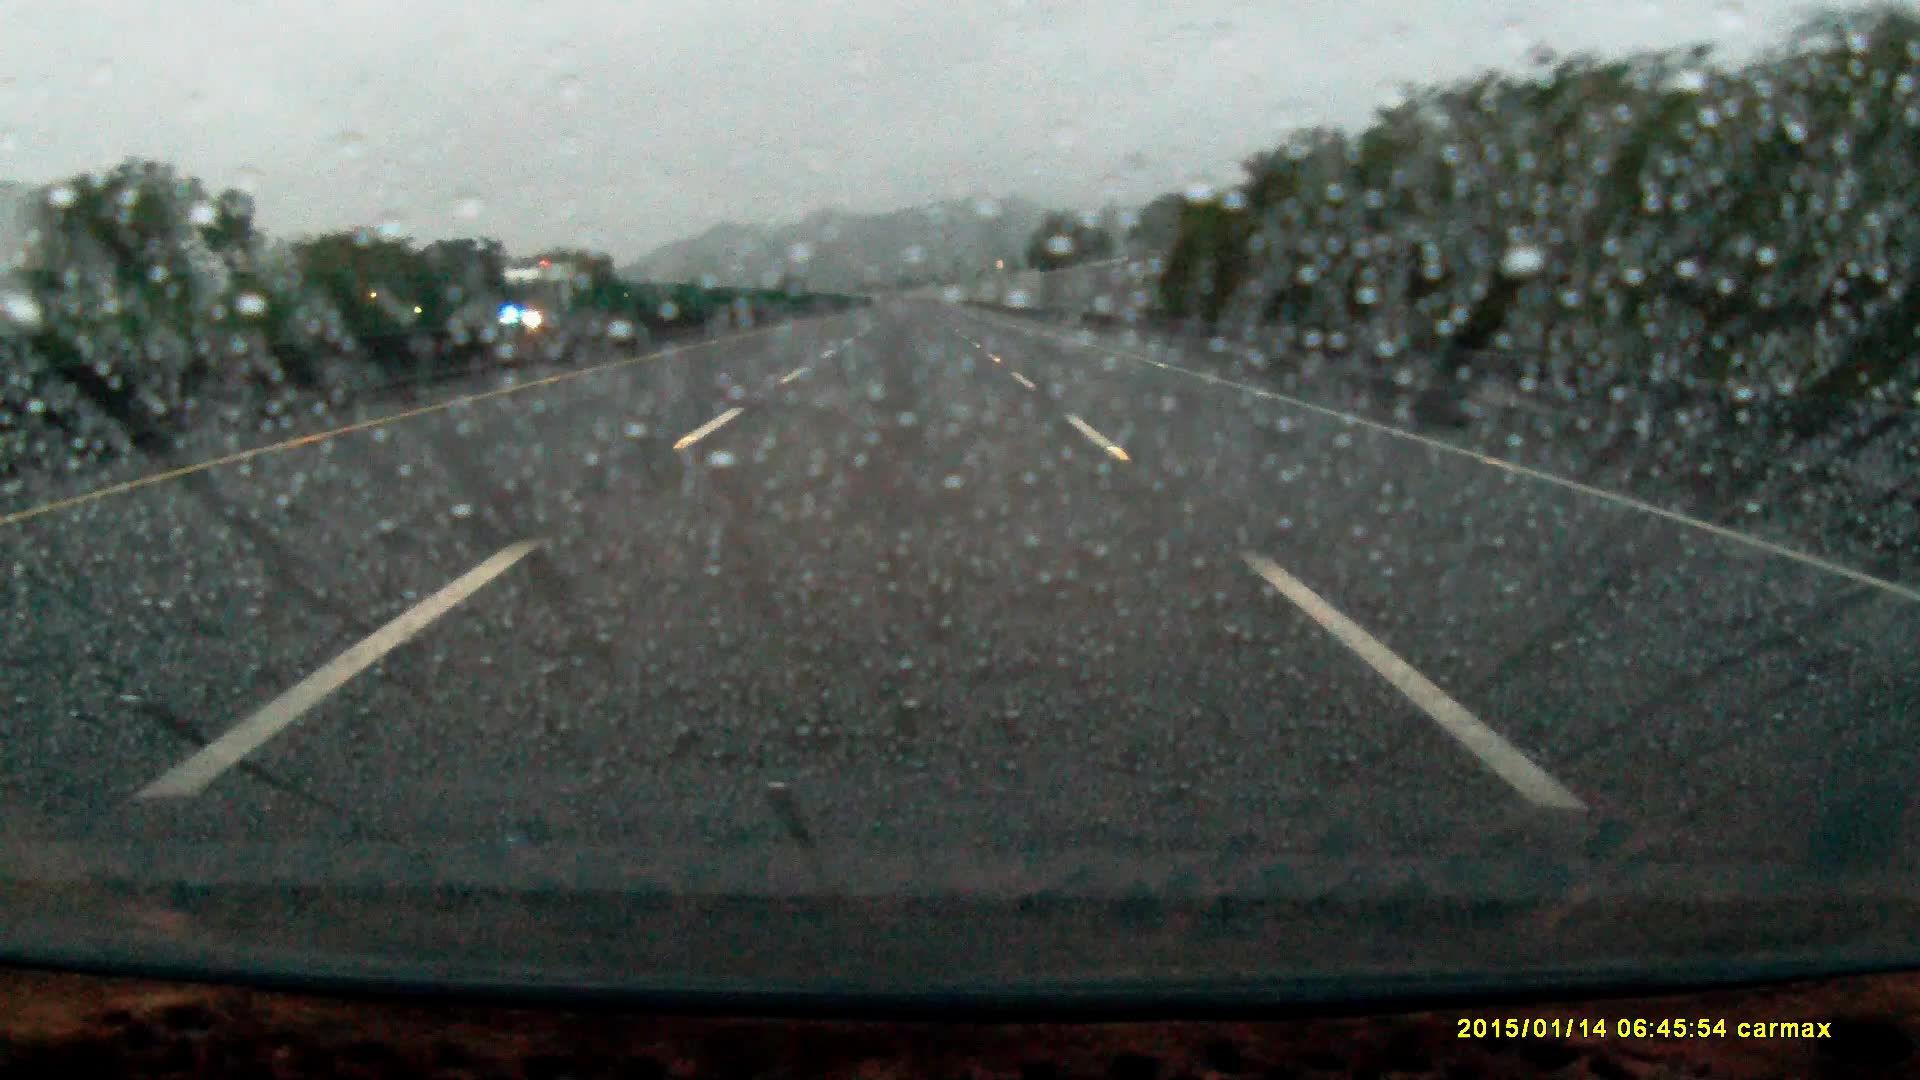vehicle: (497, 260, 582, 334)
